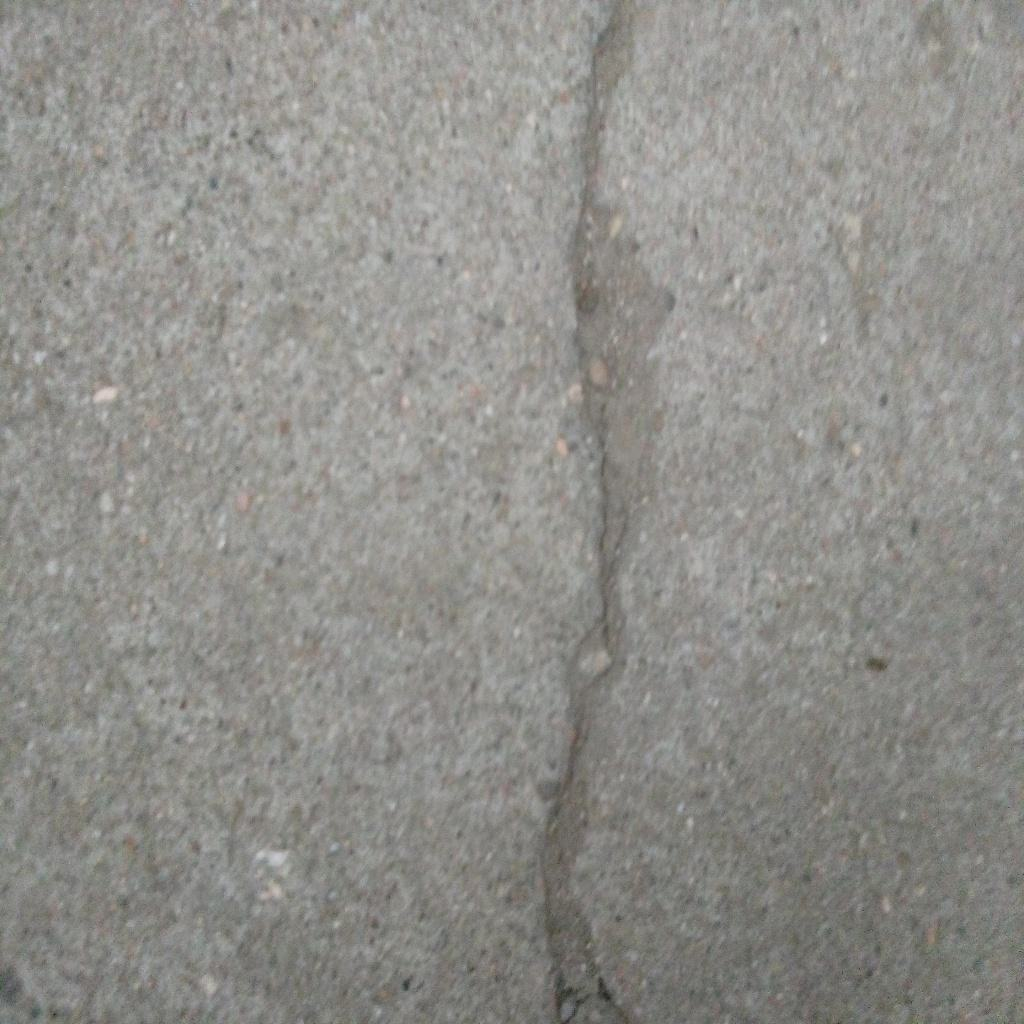Crack: (537, 1, 679, 1024)
